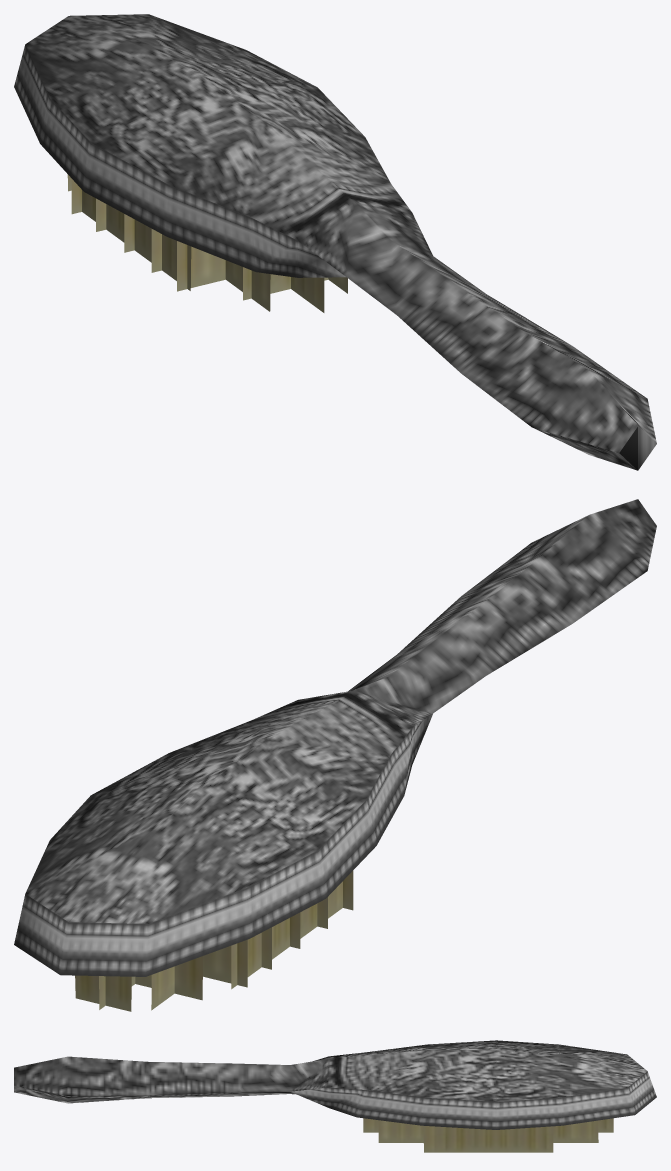
File: shop_barber_hairBrushSilver.fbx
The picture shows the model from 3 angles, top to bottom: view 1: azimuth 30°, elevation 25°; view 2: azimuth 150°, elevation 25°; view 3: azimuth 270°, elevation 25°; orthographic projection. The views are drawn at different scales.
Visible parts, largest first — view 1: hairBrush_handle, hairBrush_bristles1, hairBrush_bristles; view 2: hairBrush_handle, hairBrush_bristles1, hairBrush_bristles; view 3: hairBrush_handle, hairBrush_bristles1, hairBrush_bristles.
Boxes of the visible parts, box(x1,y1,x2,y2) form: hairBrush_handle: box(14, 14, 656, 470); hairBrush_bristles1: box(67, 174, 347, 312); hairBrush_bristles: box(74, 191, 347, 311); hairBrush_handle: box(14, 499, 656, 976); hairBrush_bristles1: box(75, 870, 353, 1011); hairBrush_bristles: box(75, 882, 350, 1009); hairBrush_handle: box(14, 1040, 656, 1129); hairBrush_bristles1: box(363, 1118, 613, 1152); hairBrush_bristles: box(363, 1118, 613, 1152).
Size of the model in its own units: 19.41 by 11.33 by 80.29.
Materials: 2 (2 with a texture image).
